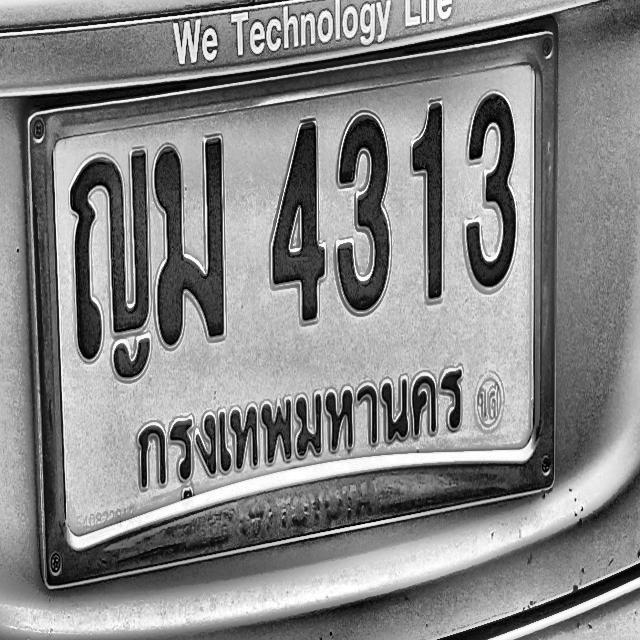license-plate: (18, 15, 579, 598)
